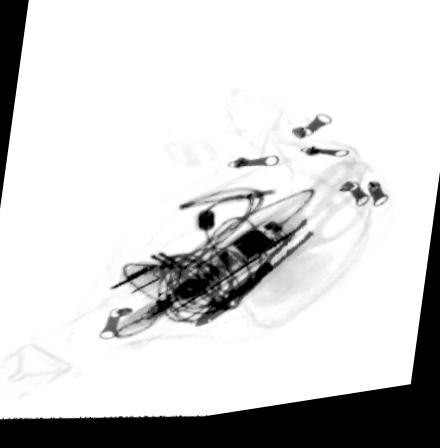Scissors: (195, 173, 369, 335)
